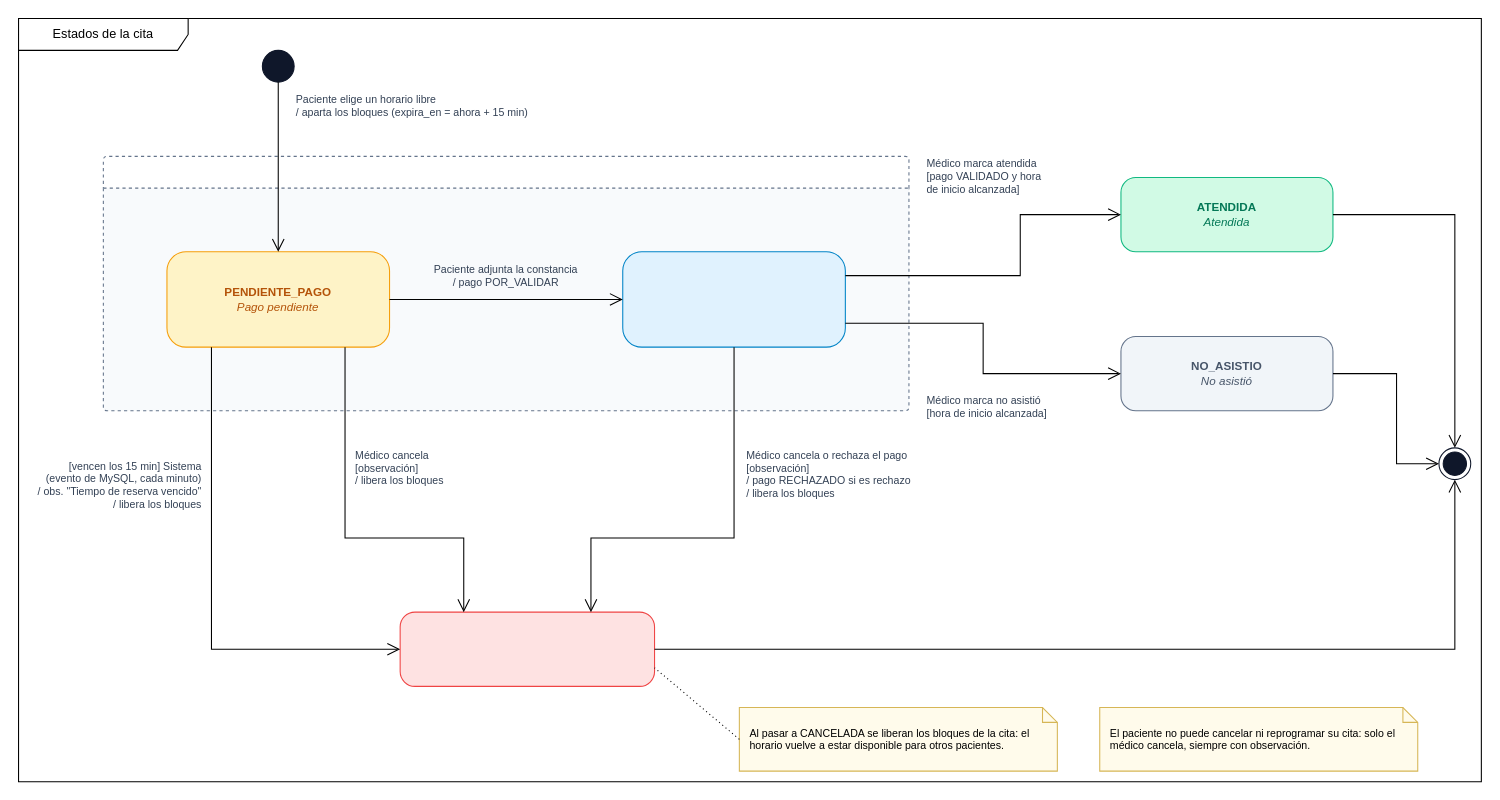
Image size: 1500x800. Some labels were removed from this diagram. Each missing label, with the box of its shape:
CANCELADA Cancelada: (399, 611, 655, 686)
Cita activa — máximo una por paciente (RN-09): (102, 155, 909, 411)
PROGRAMADA Confirmada: (622, 251, 845, 347)
